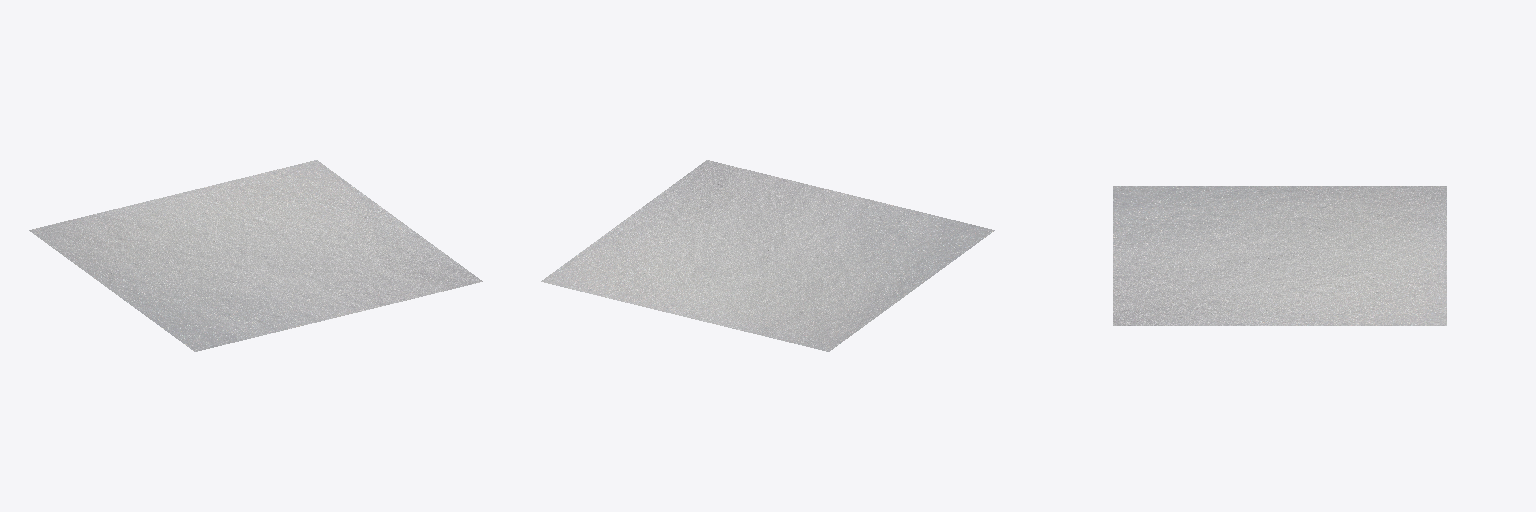
3 views of the same model, side by side, from view 1: azimuth 30°, elevation 25°; view 2: azimuth 150°, elevation 25°; view 3: azimuth 270°, elevation 25° (orthographic).
Parts seen in each view (by area): view 1: Ground_Plane; view 2: Ground_Plane; view 3: Ground_Plane.
Boxes of the visible parts, box(x1,y1,x2,y2) form: Ground_Plane: box(29, 160, 482, 351); Ground_Plane: box(541, 160, 994, 351); Ground_Plane: box(1113, 186, 1446, 325).
Bounding box in the file's own units: 109 × 0 × 109.
Materials: 1 (1 with a texture image).